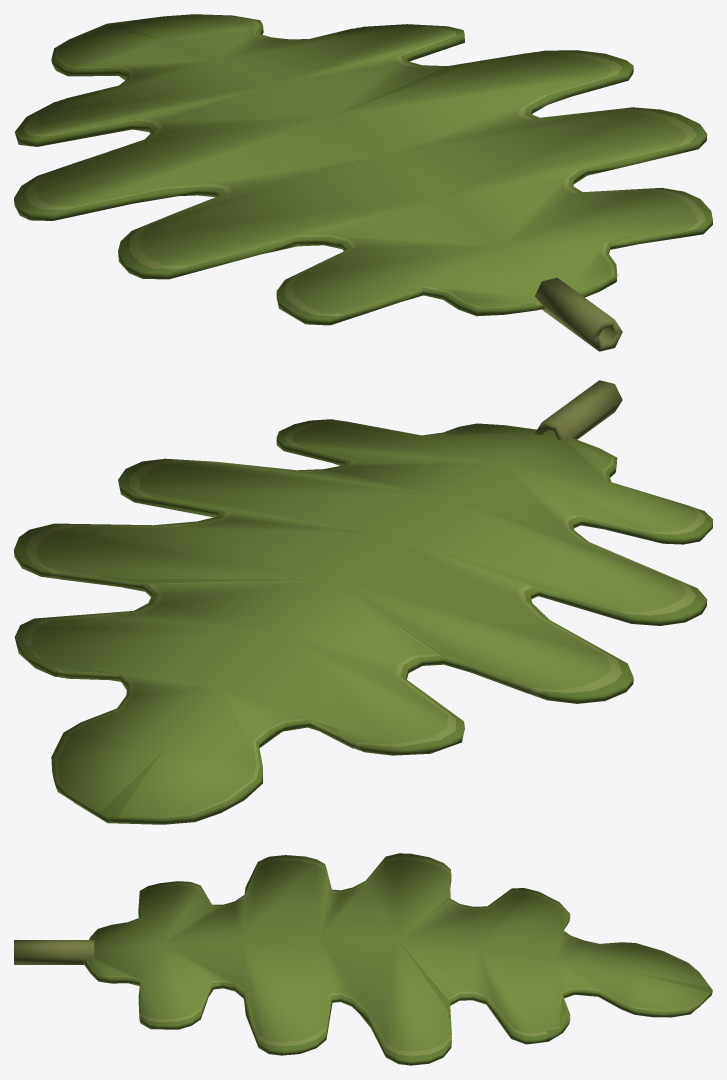
Rendered from leaves-CFWQox-9.glb.
The picture shows the model from 3 angles, top to bottom: view 1: azimuth 30°, elevation 25°; view 2: azimuth 150°, elevation 25°; view 3: azimuth 270°, elevation 25°; orthographic projection. The views are drawn at different scales.
Parts seen in each view (by area): view 1: Leaf_0, Leaf_2, Leaf_1; view 2: Leaf_0, Leaf_2, Leaf_1; view 3: Leaf_0, Leaf_2, Leaf_1.
Boxes of the visible parts, x1=… form: Leaf_0: x1=31, y1=15, x2=697, y2=351; Leaf_2: x1=14, y1=14, x2=712, y2=325; Leaf_1: x1=22, y1=14, x2=705, y2=316; Leaf_0: x1=31, y1=380, x2=697, y2=823; Leaf_2: x1=14, y1=419, x2=712, y2=824; Leaf_1: x1=23, y1=420, x2=705, y2=822; Leaf_0: x1=14, y1=859, x2=709, y2=1051; Leaf_2: x1=83, y1=853, x2=712, y2=1065; Leaf_1: x1=86, y1=856, x2=708, y2=1056.
Bounding box in the file's own units: 0.7008 × 0.0916 × 1.
